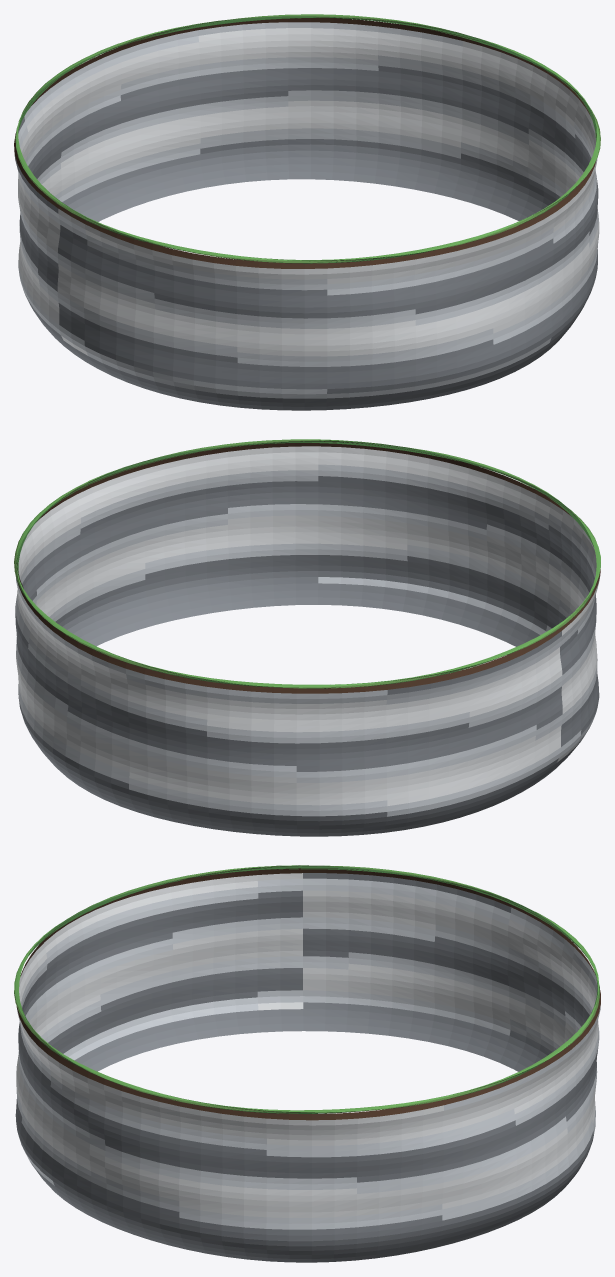
File: IslandCliff.obj
The picture shows the model from 3 angles, top to bottom: view 1: azimuth 30°, elevation 25°; view 2: azimuth 150°, elevation 25°; view 3: azimuth 270°, elevation 25°; orthographic projection.
Bounding box in the file's own units: 20.51 × 6.1 × 20.51.
